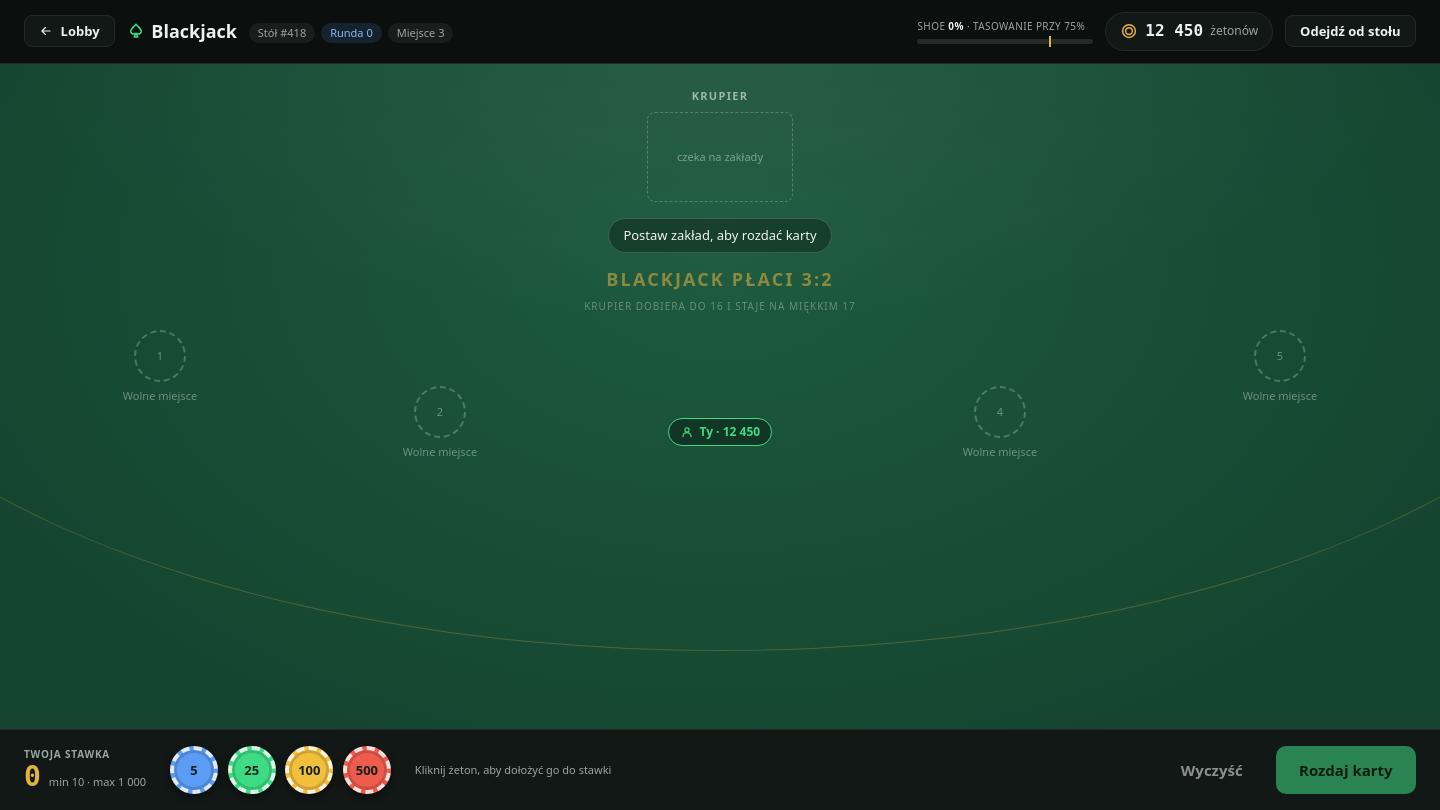
BlackjackTablePage › rejects a bet above the maximum without sending it
This screenshot has width=1440, height=810.
Expected: the heading "Blackjack" is shown, left=127, top=18, right=237, bottom=45
Click the button "500" at [367, 770], box left=343, top=746, right=391, bottom=794
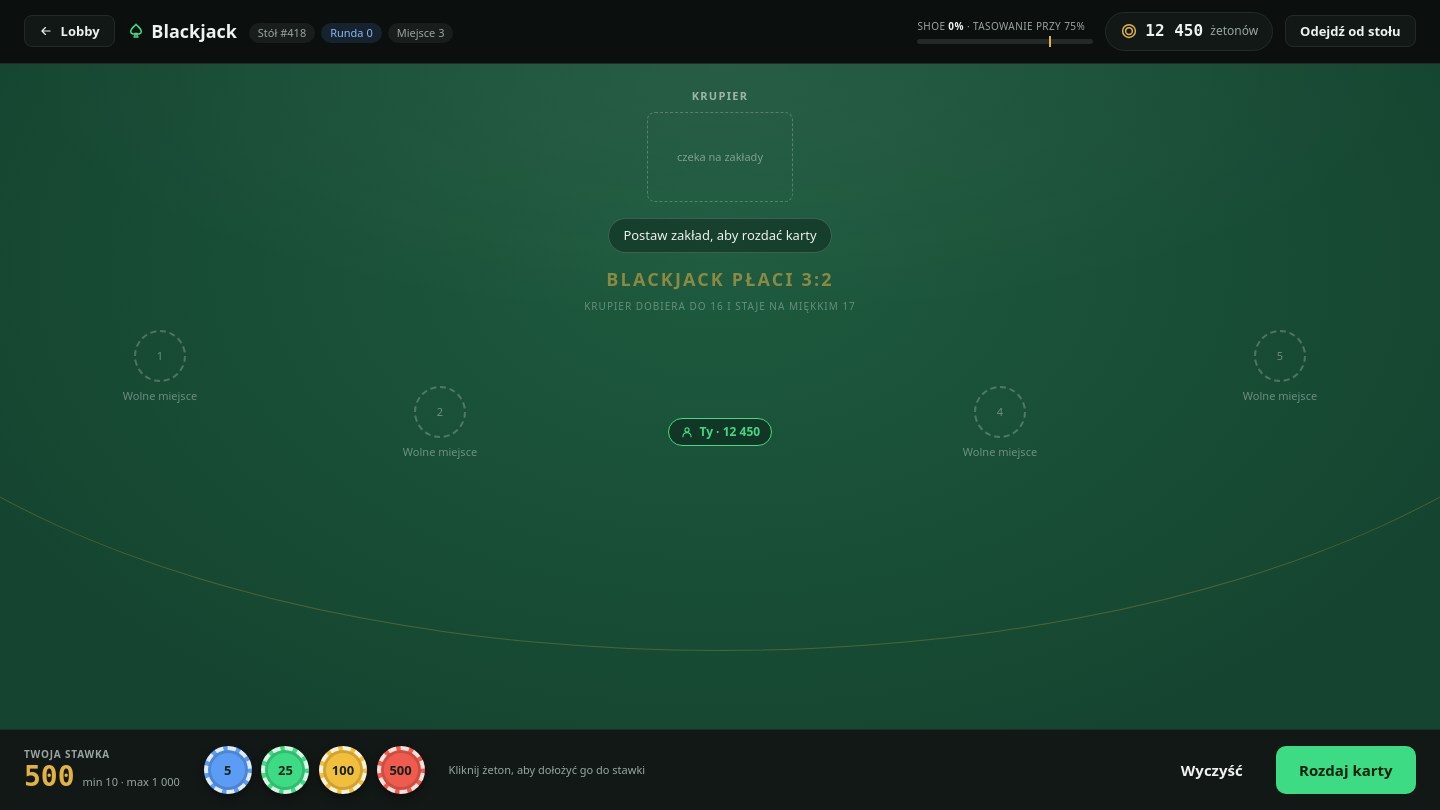
Click the button "500" at [401, 770], box left=377, top=746, right=425, bottom=794
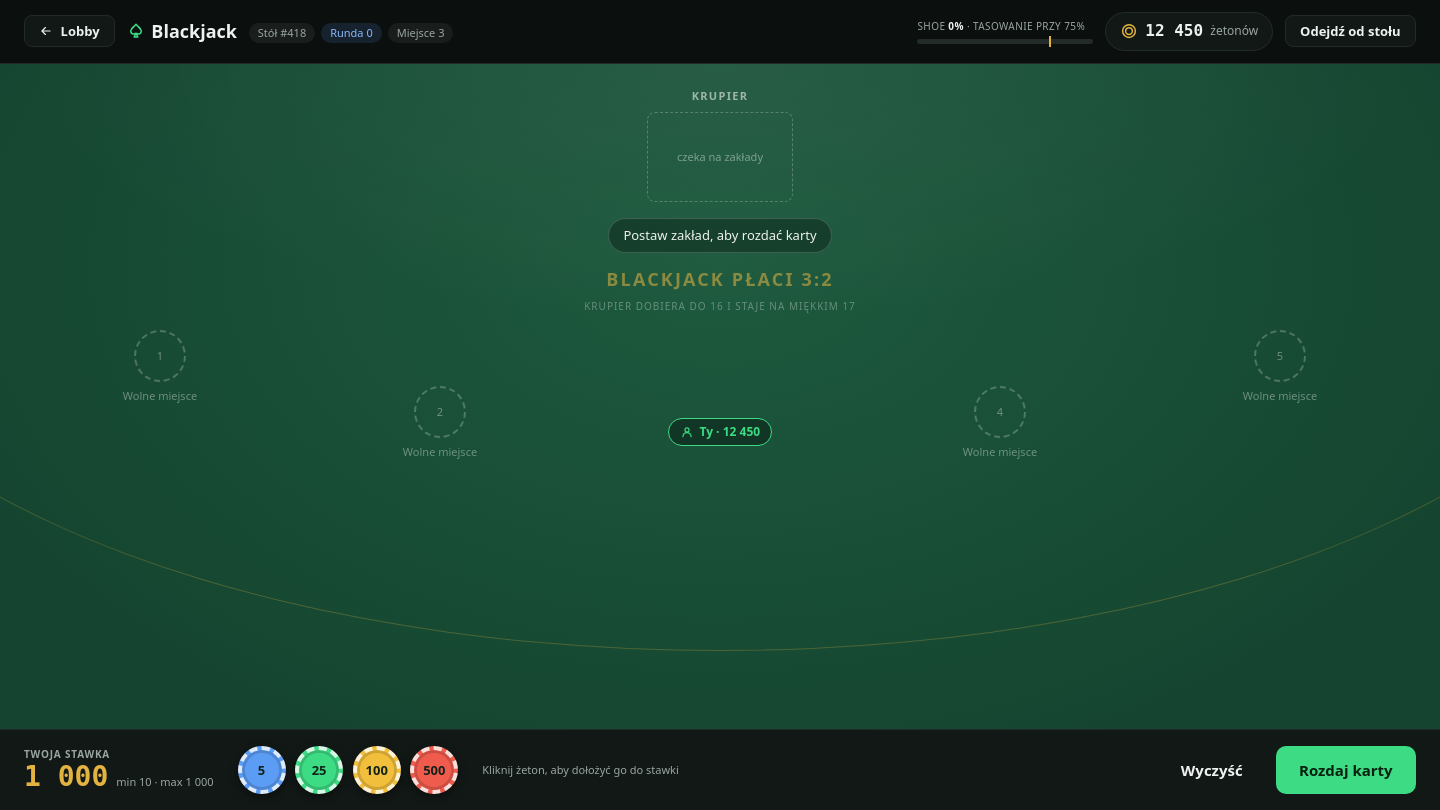
Click the button "500" at [434, 770], box left=410, top=746, right=458, bottom=794
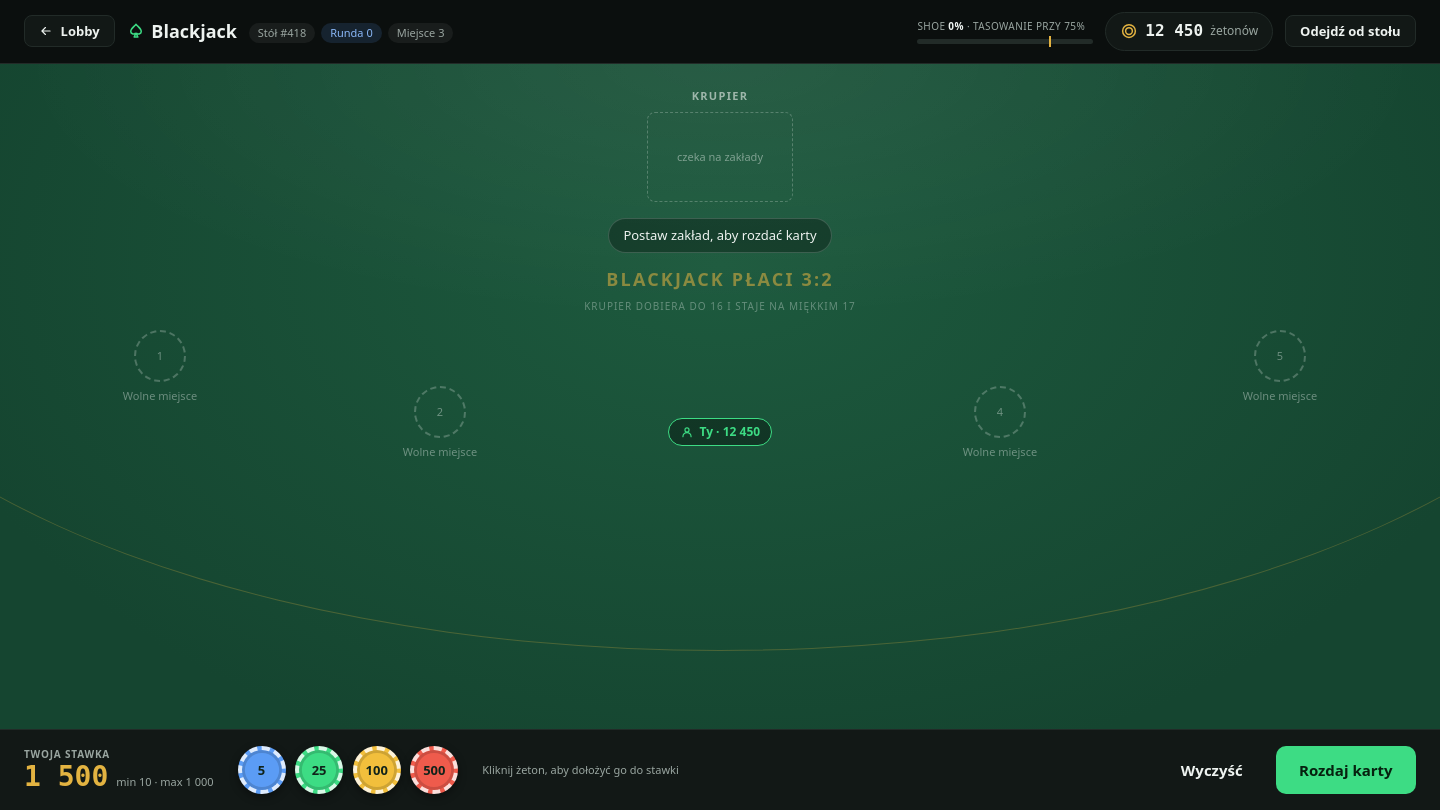
Click the button "Rozdaj karty" at [1346, 770], box left=1276, top=746, right=1416, bottom=794
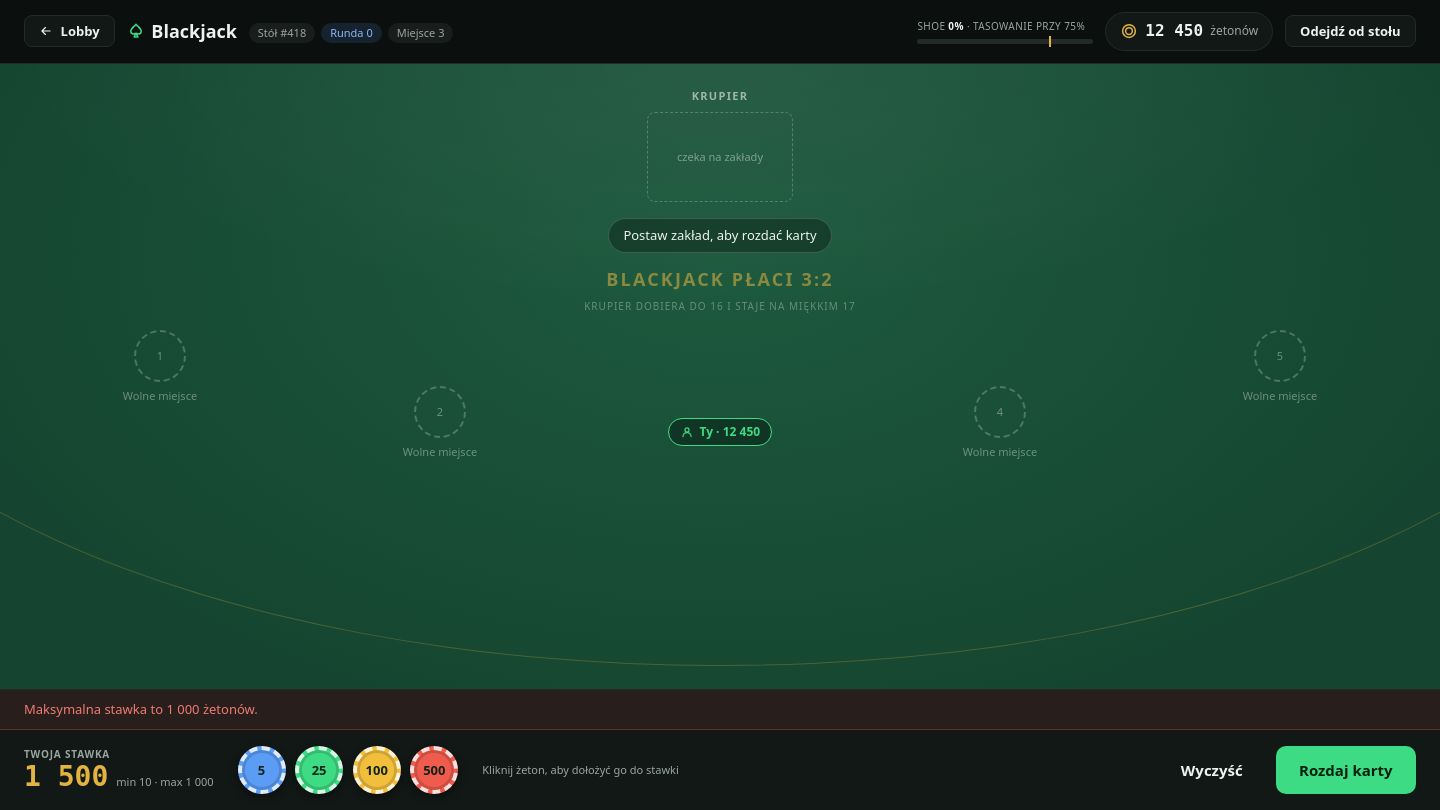
Now the message "Maksymalna stawka to 1 000 żetonów." is shown, box left=0, top=690, right=1439, bottom=730
